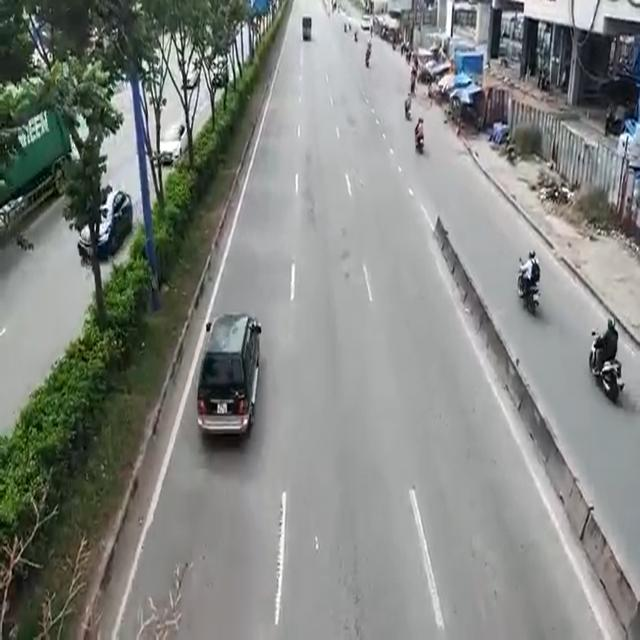car: (197, 311, 263, 447)
motorbike: (592, 334, 622, 400), (516, 261, 542, 315)
